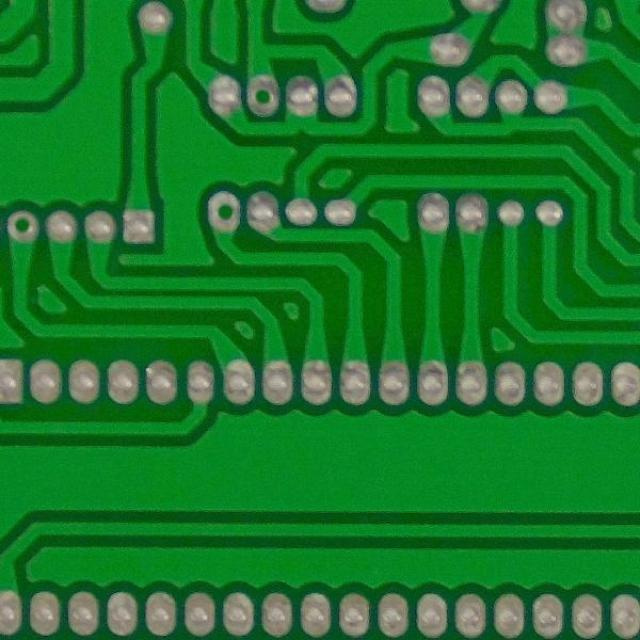Missing_Hole: (202, 188, 245, 234), (243, 74, 283, 118), (3, 208, 43, 246)
